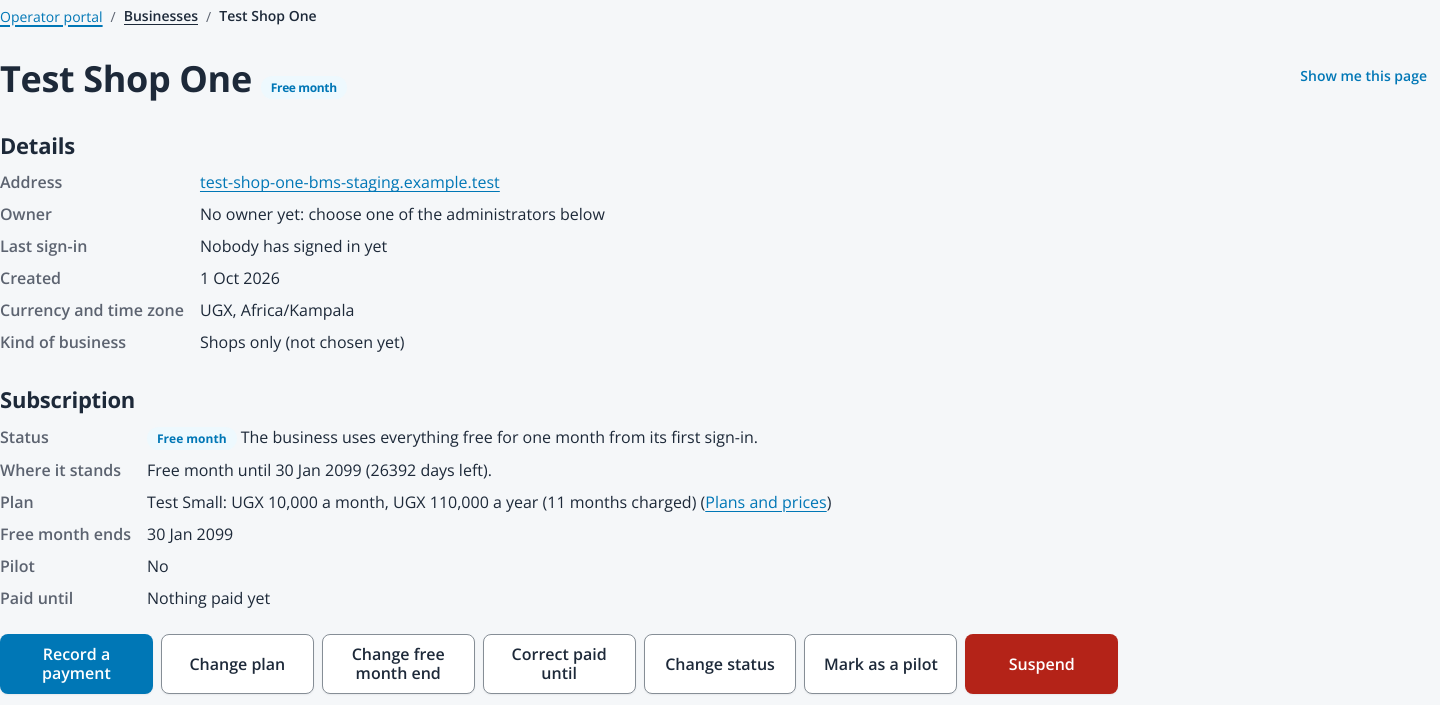
Test case: the Business page › asks once, needs a reason, and suspends once
Click the button "Suspend" at (1042, 664), box [965,634,1118,694]
(page scrolled)
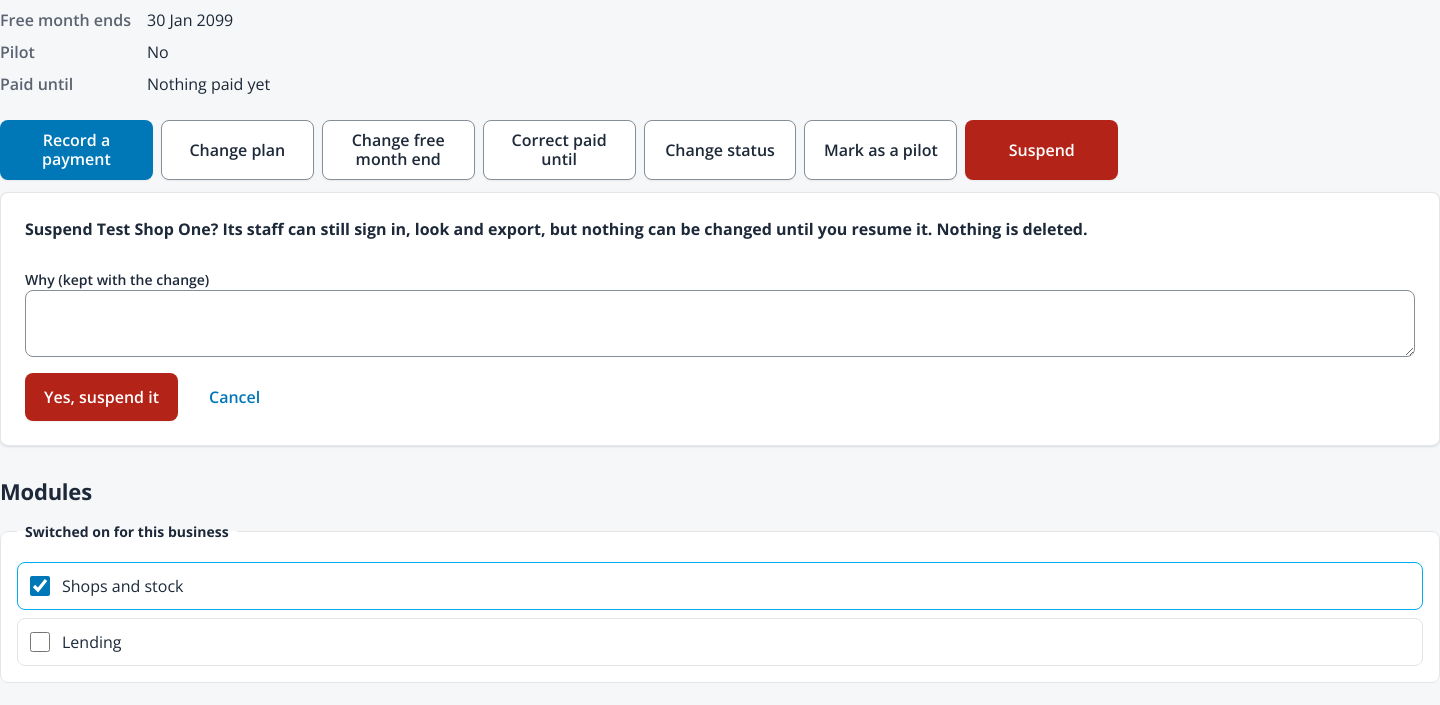
Expected: the text "Its staff can still sign in, look and export" is shown, [25,218,1088,240]
Click the button "Yes, suspend it" at (102, 397), box [25,373,178,421]
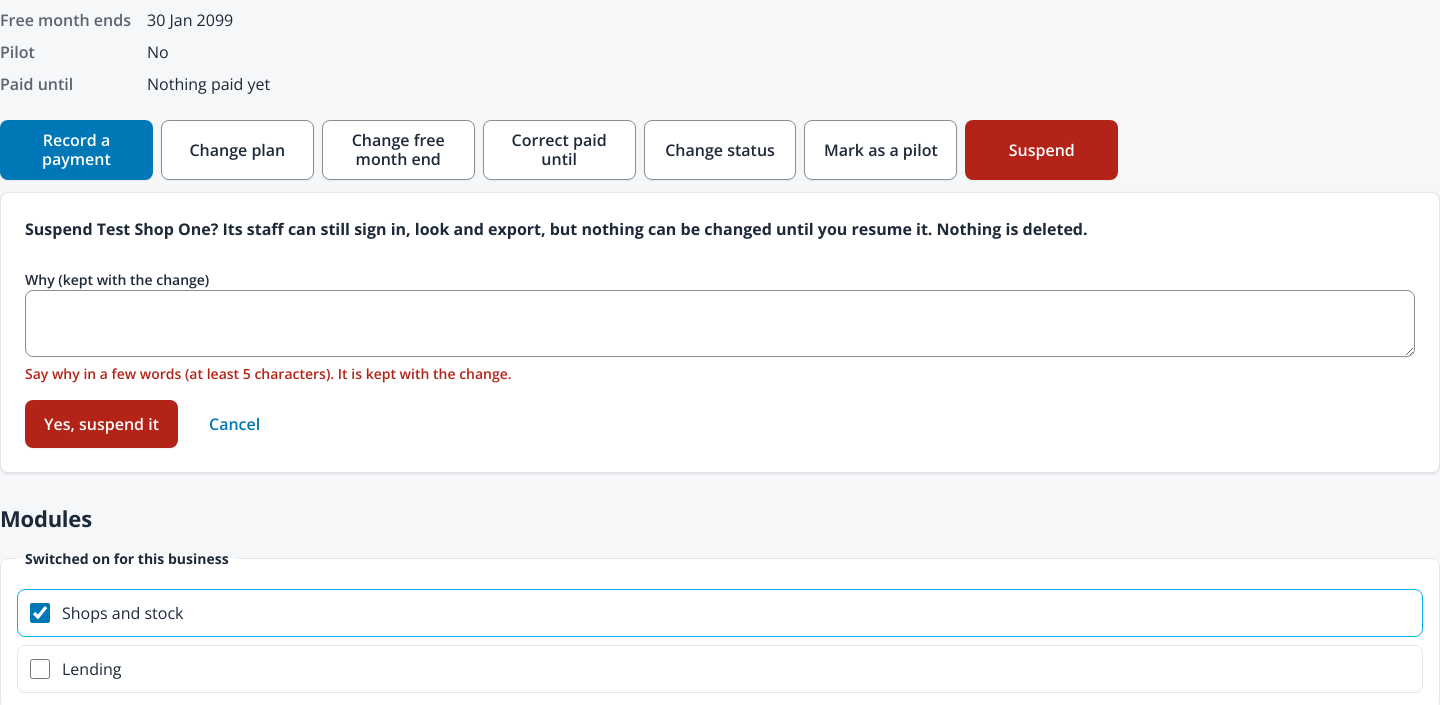
Expected: the text "Say why in a few words" is shown, [25,364,512,383]
Type "Test: unpaid after the free month" into the text box labelled "Why (kept with the change)" at (720, 324), box [25,290,1415,357]
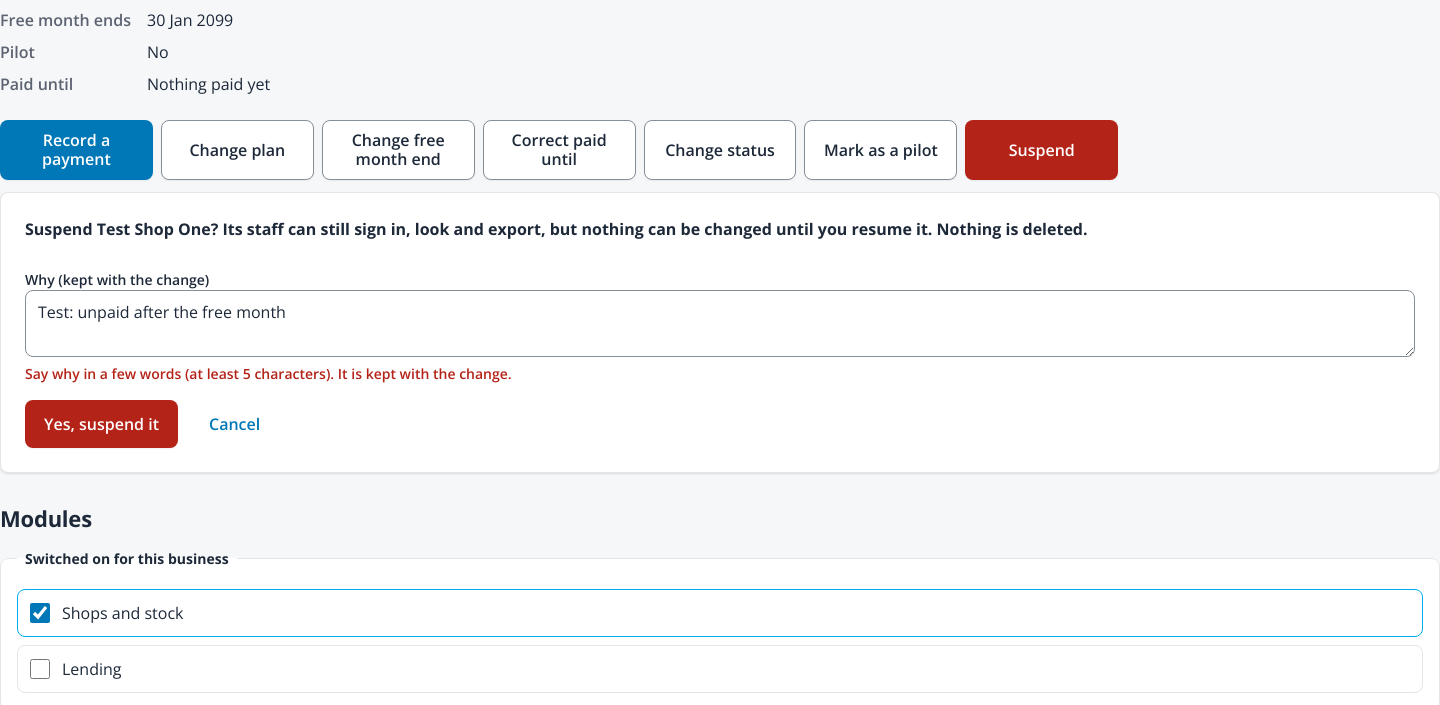
Click the button "Yes, suspend it" at (102, 424), box [25,400,178,448]
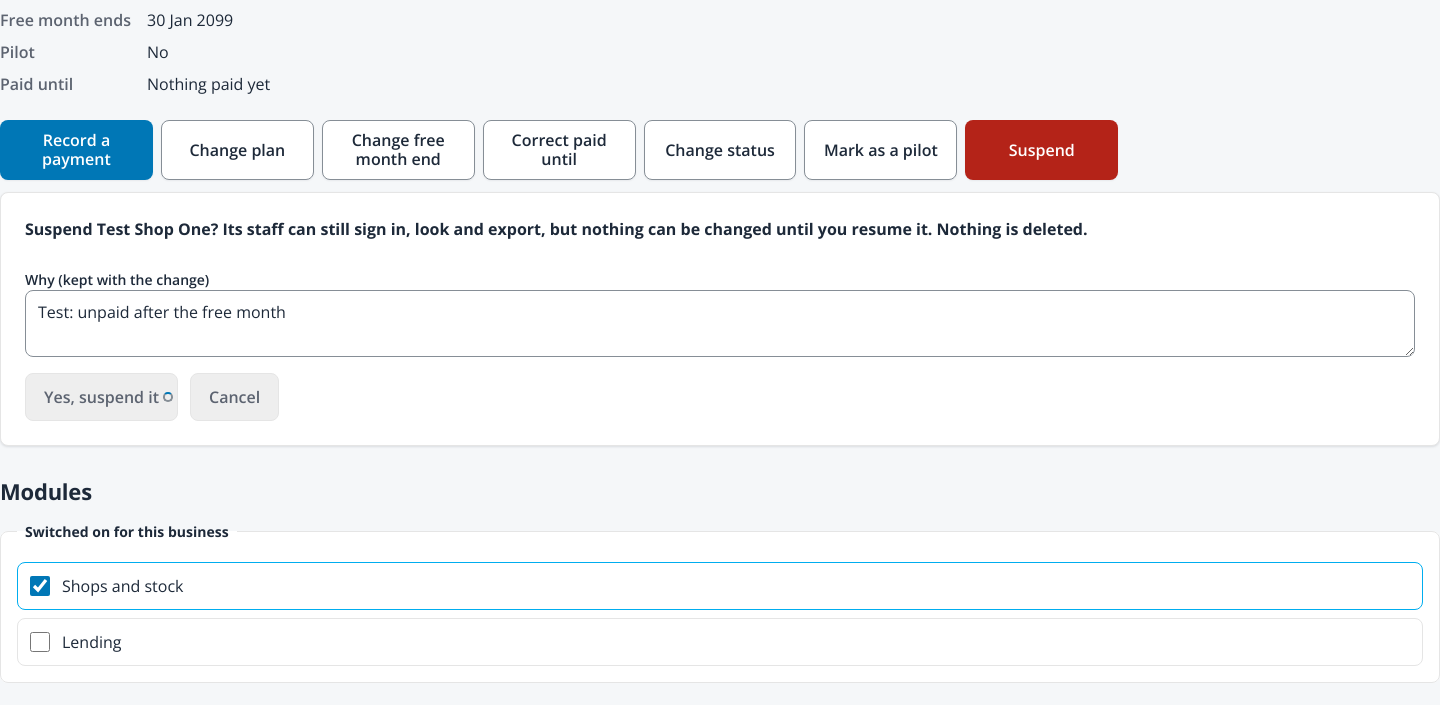
Click the button "Yes, suspend it" at (102, 397), box [25,373,178,421]
(page scrolled)
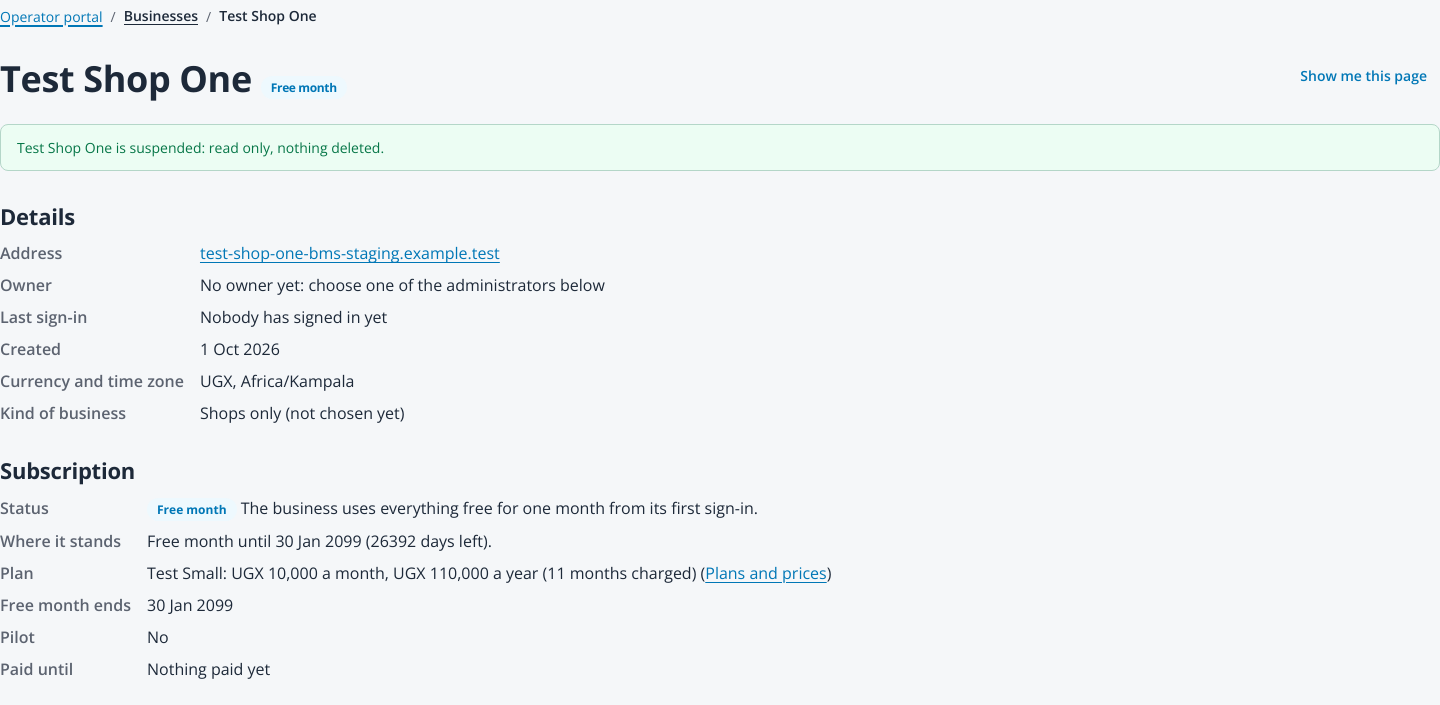
Expected: the text "Test Shop One is suspended: read only, nothing deleted." is shown, [0,124,1439,171]
